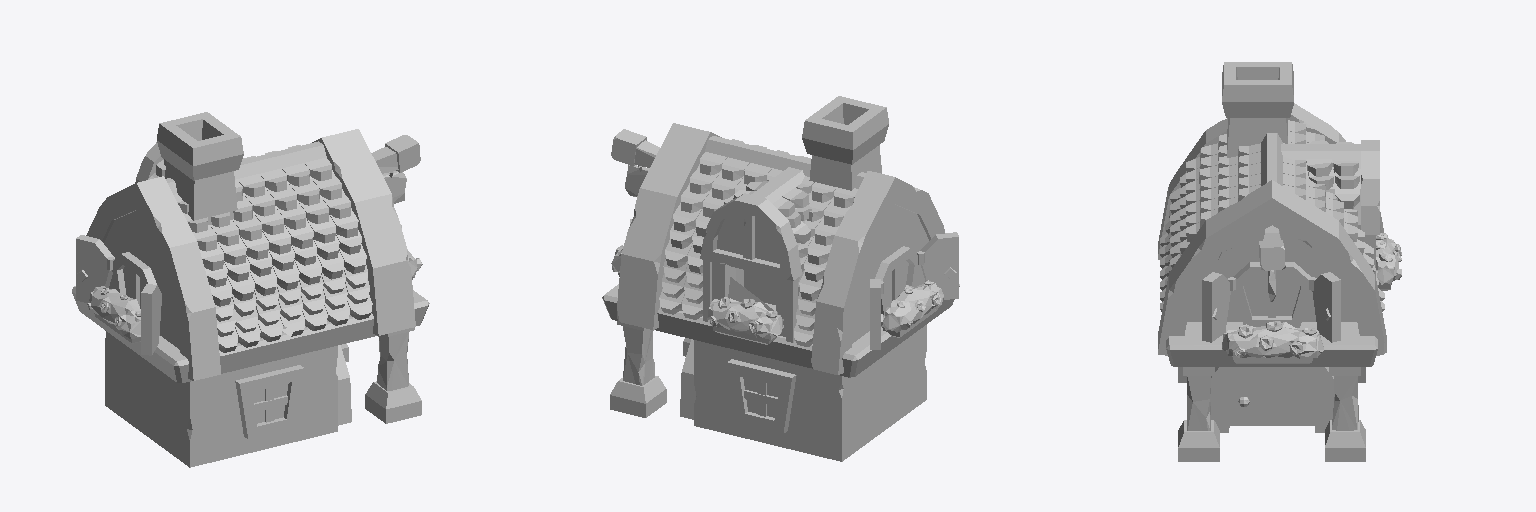
Rendered from house_002.obj.
3 renders of one model, left to right at view 1: azimuth 30°, elevation 25°; view 2: azimuth 150°, elevation 25°; view 3: azimuth 270°, elevation 25°, orthographic.
Visible parts, largest first — view 1: house_002; view 2: house_002; view 3: house_002.
Boxes of the visible parts, x1=… form: house_002: x1=72, y1=112, x2=429, y2=467; house_002: x1=602, y1=96, x2=959, y2=461; house_002: x1=1158, y1=62, x2=1401, y2=461.
Size of the model in its own units: 6.95 by 6.41 by 4.73.